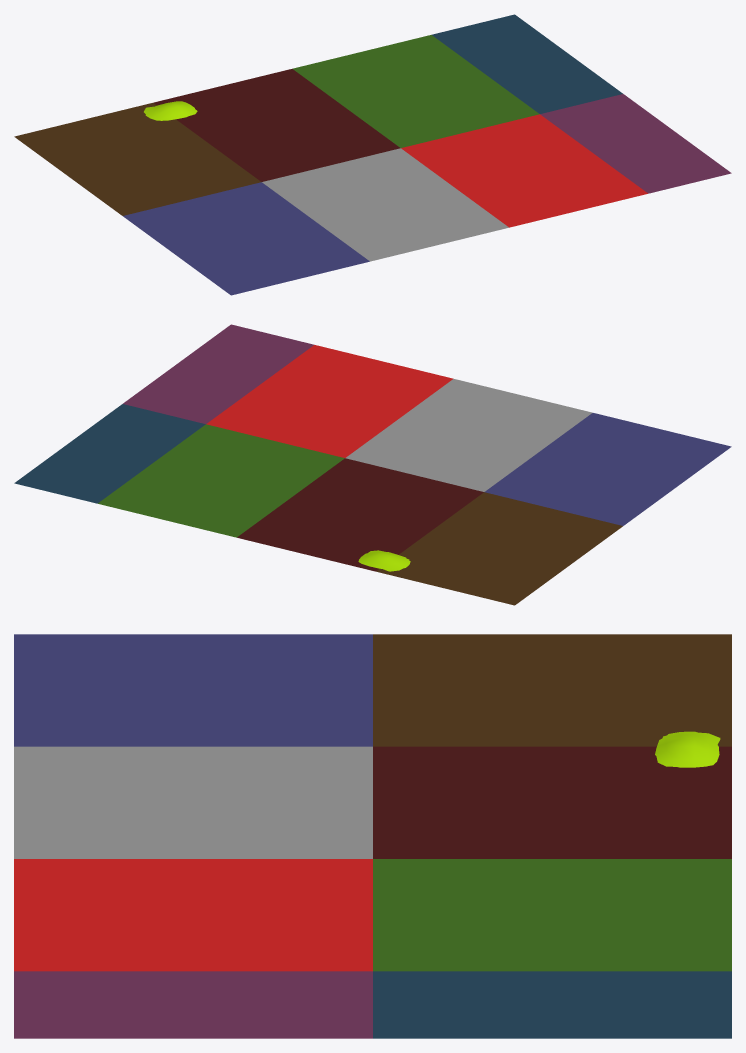
The model's file is Alley Ground All Segments.FBX.
3 renders of one model, top to bottom at view 1: azimuth 30°, elevation 25°; view 2: azimuth 150°, elevation 25°; view 3: azimuth 270°, elevation 25°, orthographic. The views are drawn at different scales.
Parts seen in each view (by area): view 1: Object016, Object017, Object018, Object021, Object019, Object020, Object022, Object023, Plane273; view 2: Object016, Object017, Object018, Object021, Object019, Object020, Object022, Object023, Plane273; view 3: Object016, Object017, Object018, Object021, Object019, Object020, Object022, Object023, Plane273.
Boxes of the visible parts, box(x1,y1,x2,y2) form: Object016: box(292, 35, 539, 147); Object017: box(401, 114, 647, 227); Object018: box(123, 182, 369, 295); Object021: box(262, 148, 508, 261); Object019: box(14, 103, 261, 215); Object020: box(153, 69, 400, 181); Object022: box(540, 94, 731, 193); Object023: box(431, 14, 622, 113); Plane273: box(144, 101, 197, 120); Object016: box(98, 424, 344, 537); Object017: box(206, 345, 453, 457); Object018: box(484, 413, 731, 525); Object021: box(345, 379, 592, 491); Object019: box(376, 492, 622, 605); Object020: box(237, 458, 483, 571); Object022: box(123, 324, 314, 423); Object023: box(14, 404, 205, 503); Plane273: box(358, 550, 410, 571); Object016: box(373, 859, 731, 971); Object017: box(14, 859, 372, 971); Object018: box(14, 634, 372, 746); Object021: box(14, 746, 372, 858); Object019: box(373, 634, 731, 746); Object020: box(373, 746, 731, 858); Object022: box(14, 971, 372, 1038); Object023: box(373, 971, 731, 1038); Plane273: box(655, 731, 720, 767).
Bounding box in the file's own units: 49.93 × 0.536 × 37.49.
